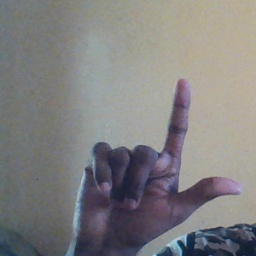L: (73, 78, 243, 247)
